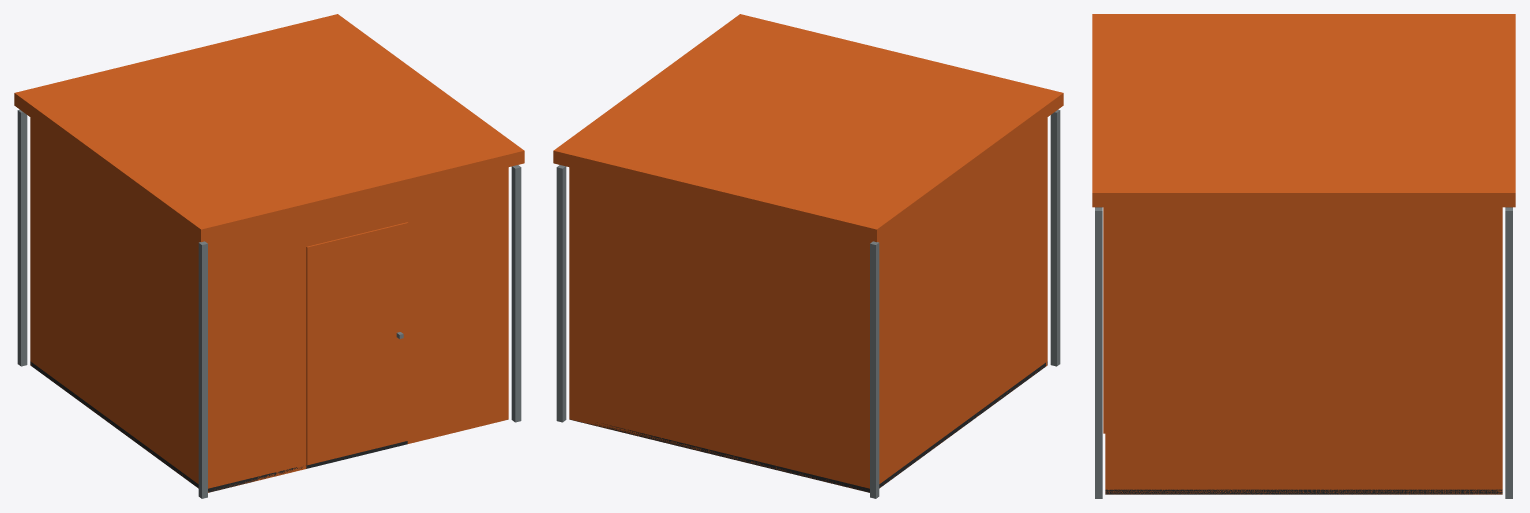
Rendered from construction_tent.glb.
3 views of the same model, side by side, from view 1: azimuth 30°, elevation 25°; view 2: azimuth 150°, elevation 25°; view 3: azimuth 270°, elevation 25° (orthographic). The views are drawn at different scales.
Visible parts, largest first — view 1: Shell, Dressing, Door_L; view 2: Shell, Dressing; view 3: Shell, Dressing, Door_L.
Part boxes in pixels (x1=…): Shell: x1=30, y1=117, x2=508, y2=492; Dressing: x1=14, y1=14, x2=524, y2=498; Door_L: x1=306, y1=222, x2=408, y2=465; Shell: x1=569, y1=117, x2=1047, y2=492; Dressing: x1=553, y1=14, x2=1063, y2=498; Shell: x1=1105, y1=207, x2=1502, y2=494; Dressing: x1=1092, y1=14, x2=1515, y2=498; Door_L: x1=1103, y1=207, x2=1105, y2=433.
Bounding box in the file's own units: 3.2 × 2.56 × 3.2.
